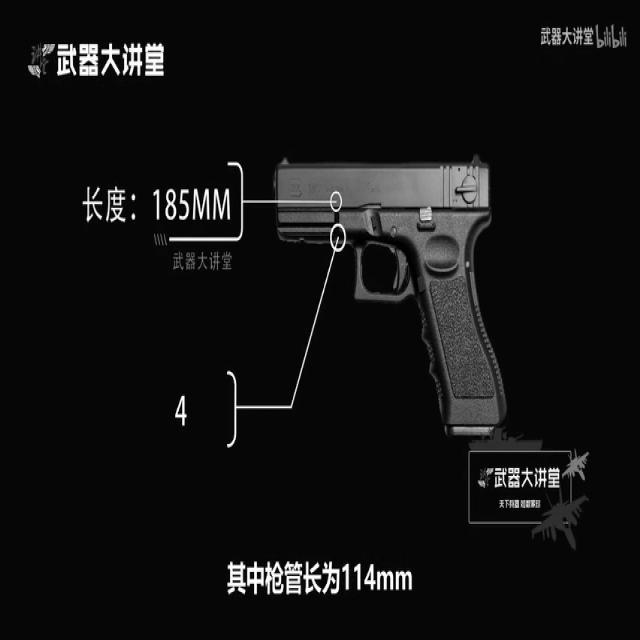Hand-Gun: (254, 58, 601, 640)
